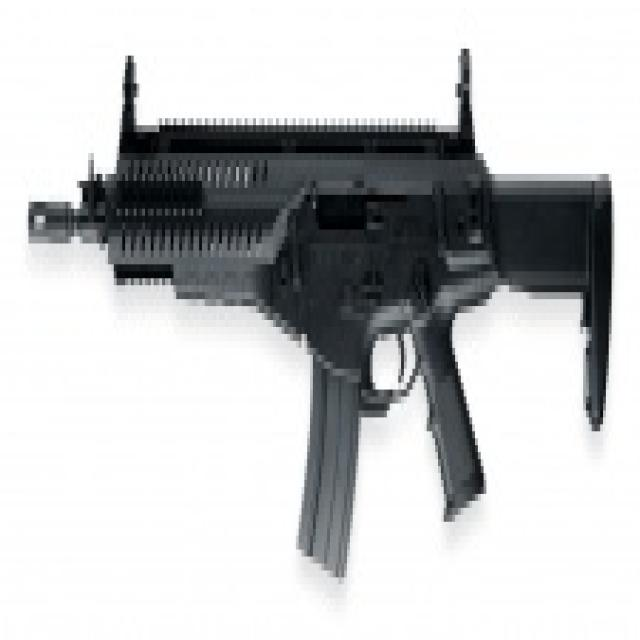rifle: (24, 40, 622, 608)
